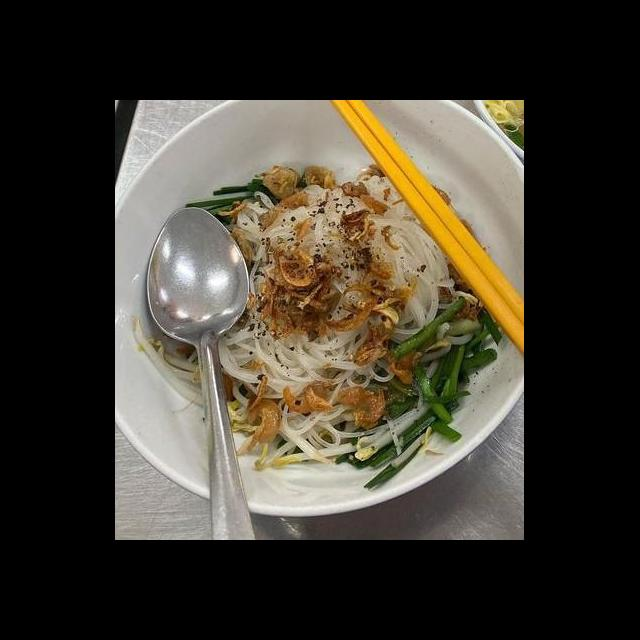banh hu tieu: (205, 169, 456, 409)
